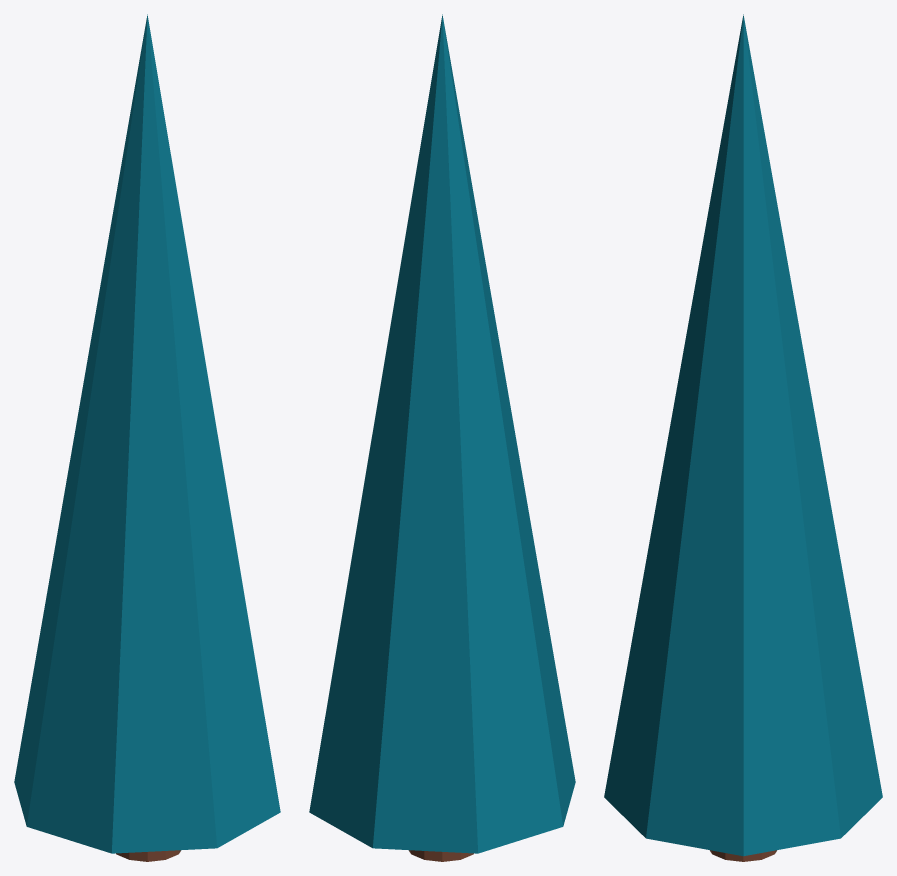
File: Tree_24_summer_blue_mat.fbx
3 renders of one model, left to right at view 1: azimuth 30°, elevation 25°; view 2: azimuth 150°, elevation 25°; view 3: azimuth 270°, elevation 25°, orthographic.
Parts seen in each view (by area): view 1: Tree_24_summer_blue_mat; view 2: Tree_24_summer_blue_mat; view 3: Tree_24_summer_blue_mat.
Part boxes in pixels (bbox=[...]): Tree_24_summer_blue_mat: bbox=[14, 14, 280, 861]; Tree_24_summer_blue_mat: bbox=[309, 14, 575, 861]; Tree_24_summer_blue_mat: bbox=[604, 14, 882, 861].
Bounding box in the file's own units: 85.35 × 281 × 85.35.
